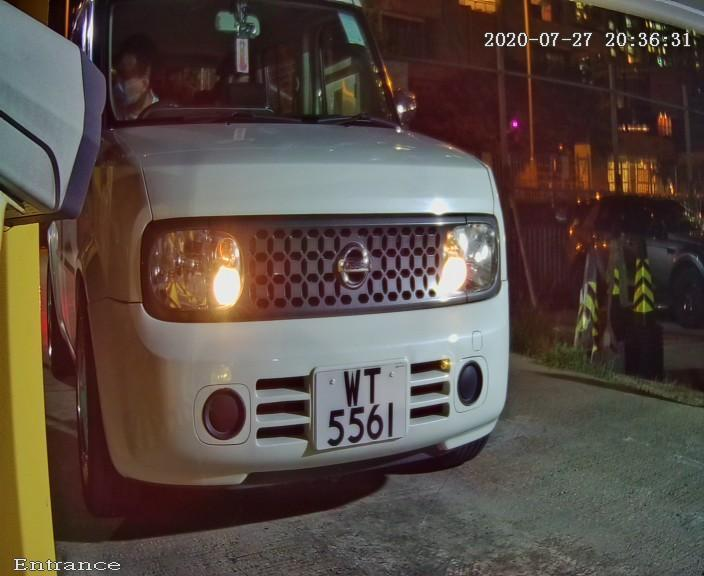privatecar: (26, 16, 591, 528)
